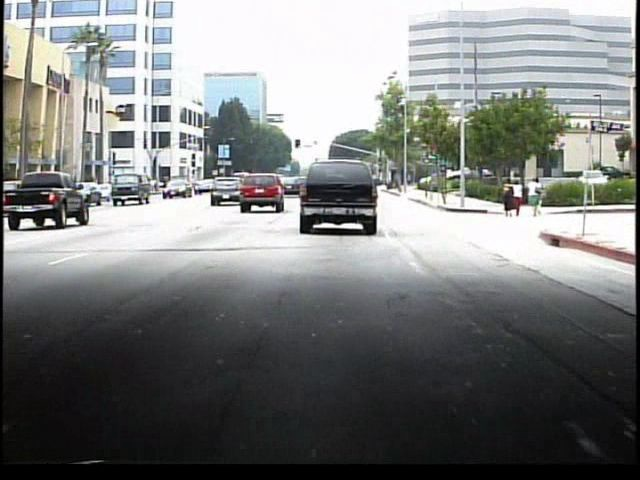person: (527, 177, 543, 220), (499, 178, 514, 216), (512, 179, 525, 218)
